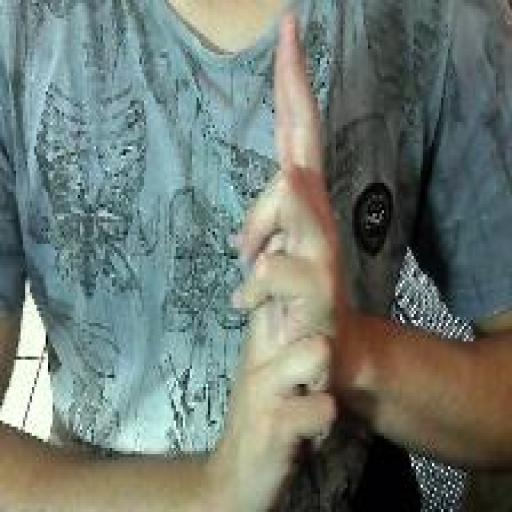Hitsuji -ram-: (231, 6, 343, 509)
